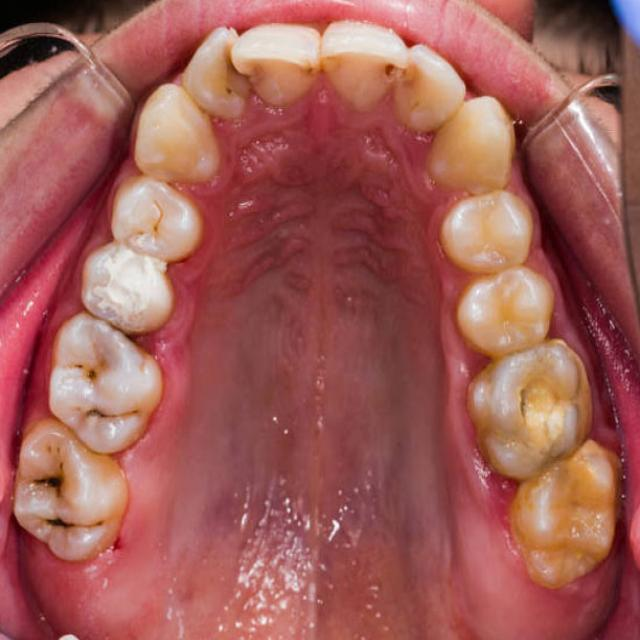caries: (212, 44, 272, 96), (77, 396, 144, 436), (45, 502, 108, 543), (362, 48, 416, 94), (294, 42, 349, 86), (28, 449, 68, 496), (66, 349, 109, 391)
